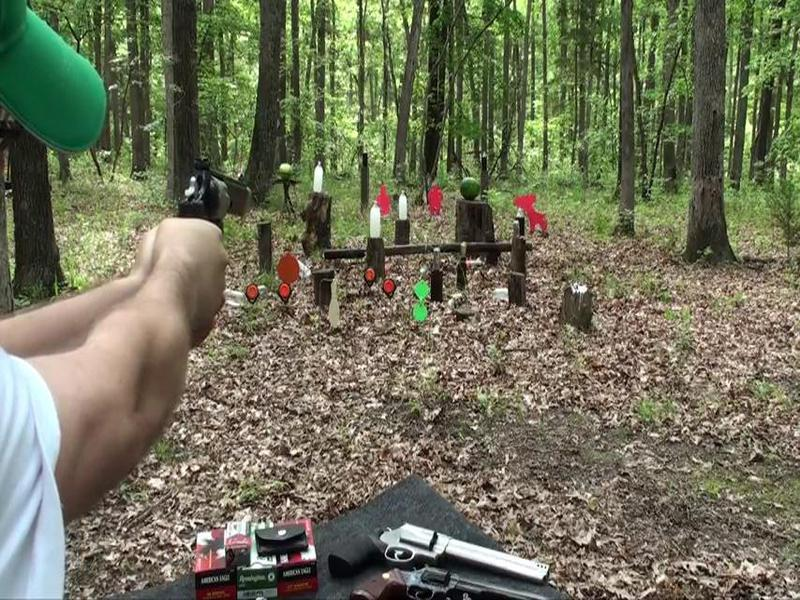Revolver: (156, 136, 267, 262)
